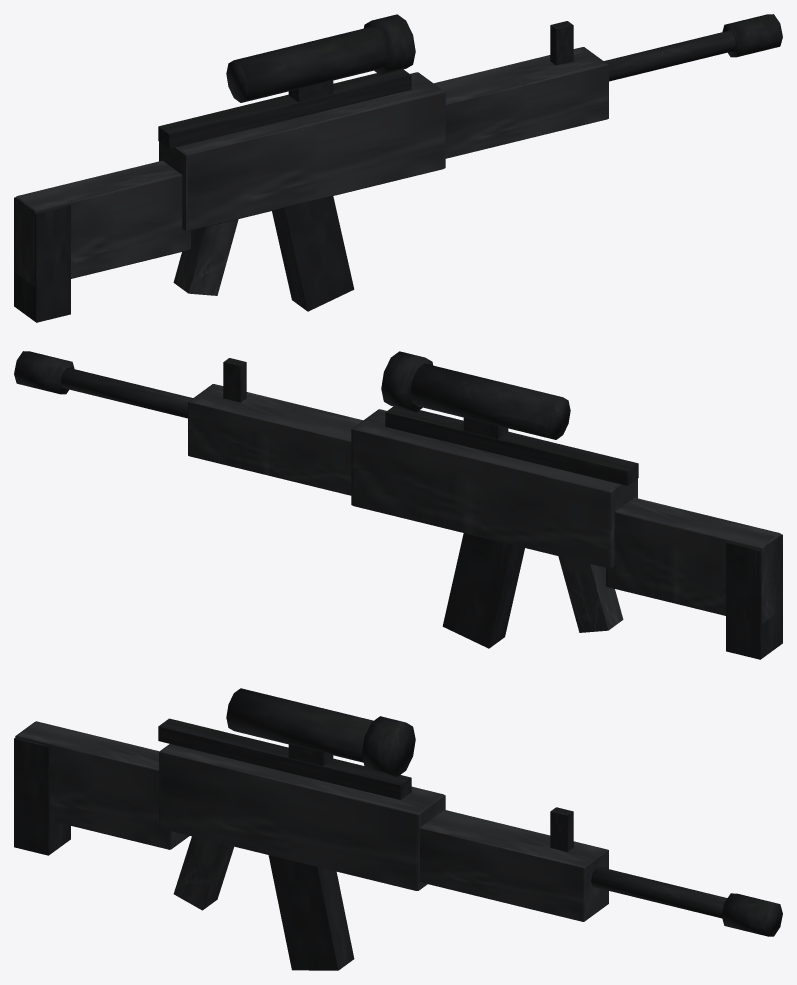
The model's file is gun_vg_rifle_scope.glb.
3 renders of one model, top to bottom at view 1: azimuth 30°, elevation 25°; view 2: azimuth 150°, elevation 25°; view 3: azimuth 330°, elevation 25°, orthographic.
Parts seen in each view (by area): view 1: gun_vg_rifle_scope; view 2: gun_vg_rifle_scope; view 3: gun_vg_rifle_scope.
Part boxes in pixels (box(x1,y1,x2,y2)): gun_vg_rifle_scope: box(14, 14, 782, 322); gun_vg_rifle_scope: box(14, 351, 782, 659); gun_vg_rifle_scope: box(14, 688, 782, 970).
Bounding box in the file's own units: 0.865 × 0.2911 × 0.056.
2 materials, 2 textured.
